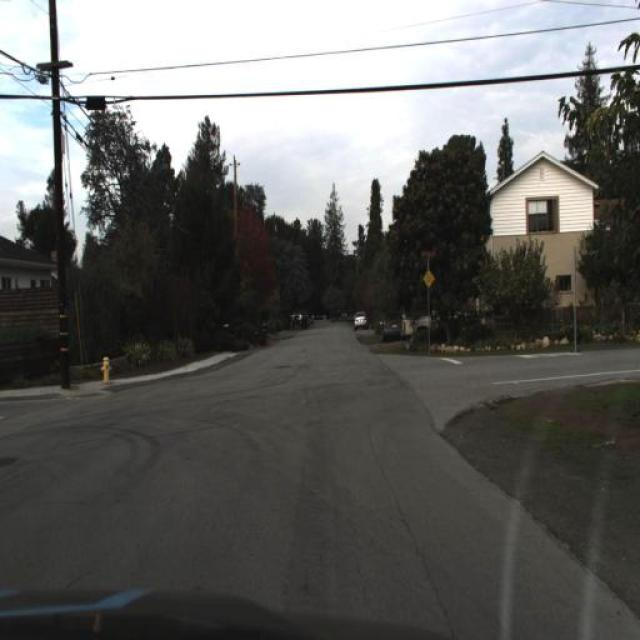car: (400, 300, 444, 344), (377, 303, 402, 343), (378, 307, 402, 343), (350, 309, 368, 335), (352, 308, 369, 331)
